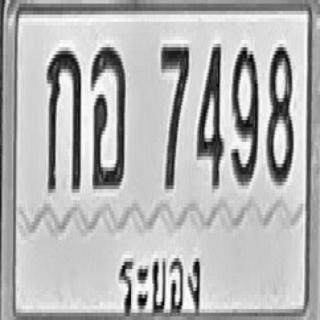A01: (46, 45, 81, 191)
A43: (90, 44, 126, 185)
N04: (196, 40, 223, 186)
N07: (160, 42, 189, 187)
N08: (266, 42, 293, 184)
N09: (232, 42, 258, 184)
P53: (114, 238, 208, 320)
